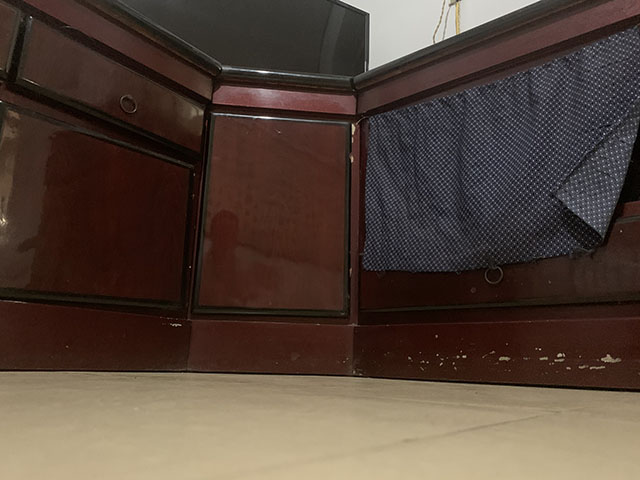cabinet: (1, 1, 357, 392), (354, 3, 640, 392)
